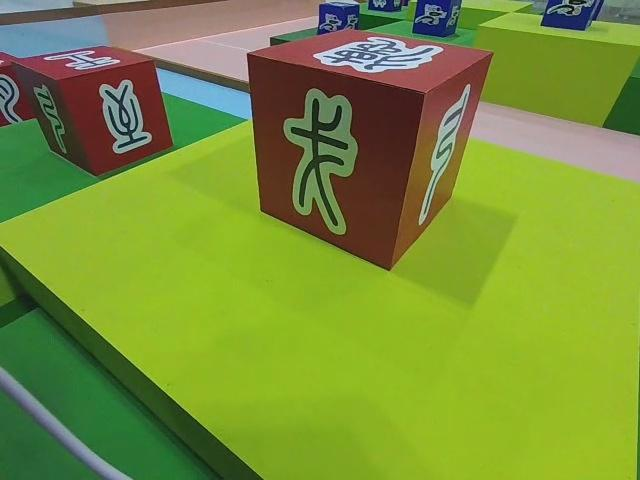R2 Fake: (245, 22, 495, 274), (9, 37, 174, 175)
